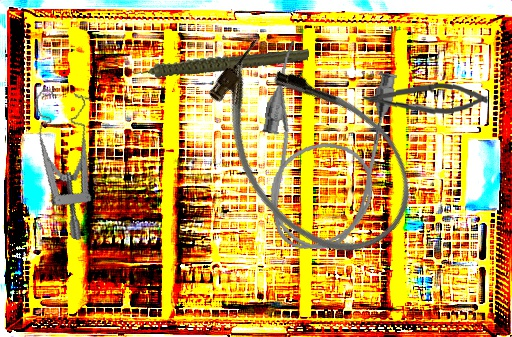Cannula: (177, 16, 440, 283), (243, 38, 400, 261)
Handpiece: (124, 23, 310, 100)
Micro Scissor: (361, 80, 489, 119)
Speculum: (1, 83, 119, 241)
